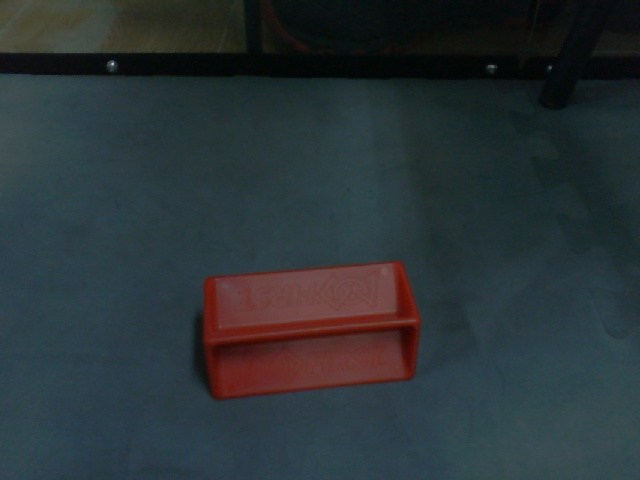RedSample: (198, 257, 423, 402)
